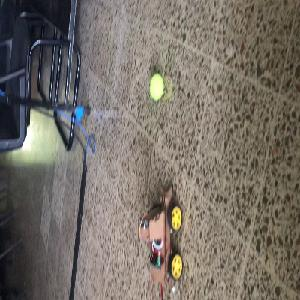Ball: (149, 74, 164, 100)
Robot: (138, 184, 184, 286)
